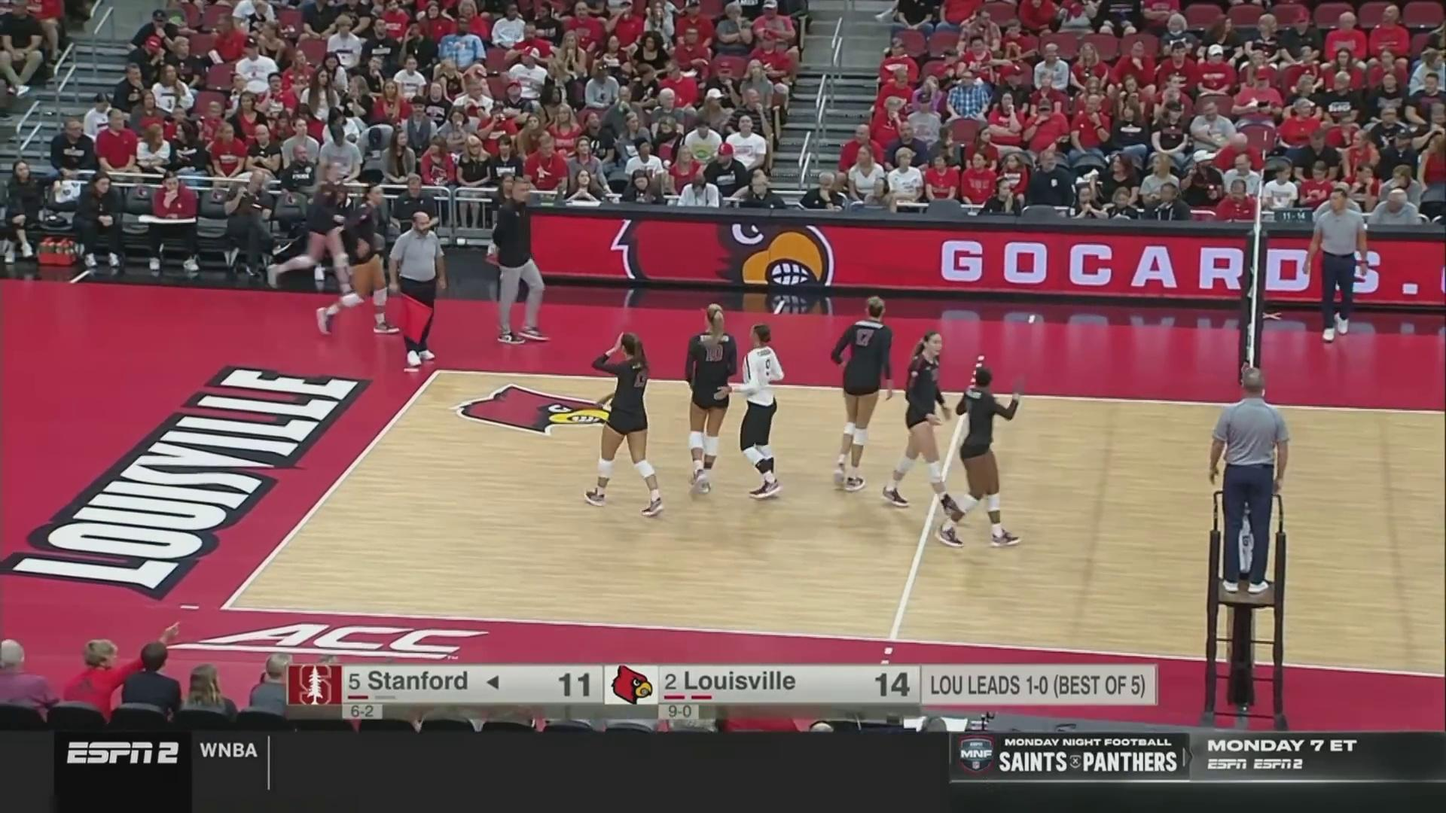player: (940, 369, 1027, 547), (885, 327, 959, 515), (586, 329, 658, 521), (832, 295, 895, 495), (683, 303, 737, 495), (730, 326, 789, 496)
refree: (1208, 370, 1289, 593), (1308, 189, 1365, 341), (392, 210, 445, 366)
